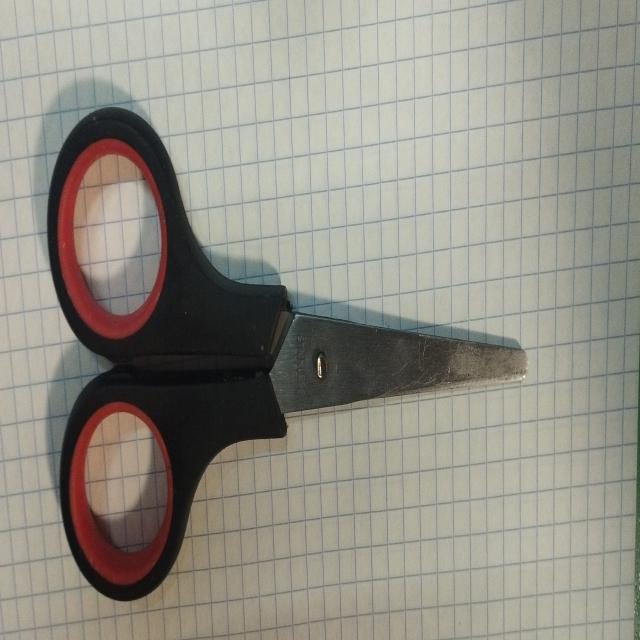tesoura: (42, 96, 531, 608)
